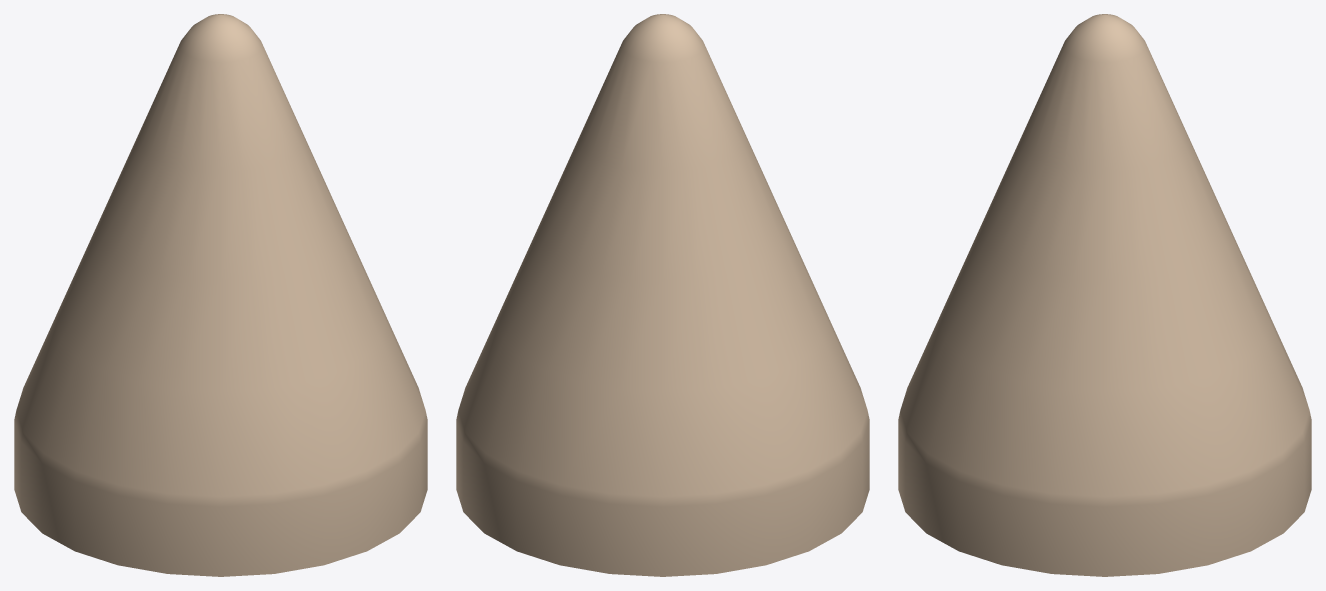
The model's file is pf cone normals.obj.
The picture shows the model from 3 angles, left to right: view 1: azimuth 30°, elevation 25°; view 2: azimuth 150°, elevation 25°; view 3: azimuth 270°, elevation 25°; orthographic projection.
Visible parts, largest first — view 1: cone_copy7; view 2: cone_copy7; view 3: cone_copy7.
Part boxes in pixels (<box>): cone_copy7: <box>14,14,427,576</box>; cone_copy7: <box>456,14,869,576</box>; cone_copy7: <box>898,14,1311,576</box>.
Size of the model in its own units: 1.88 by 2.38 by 1.88.
